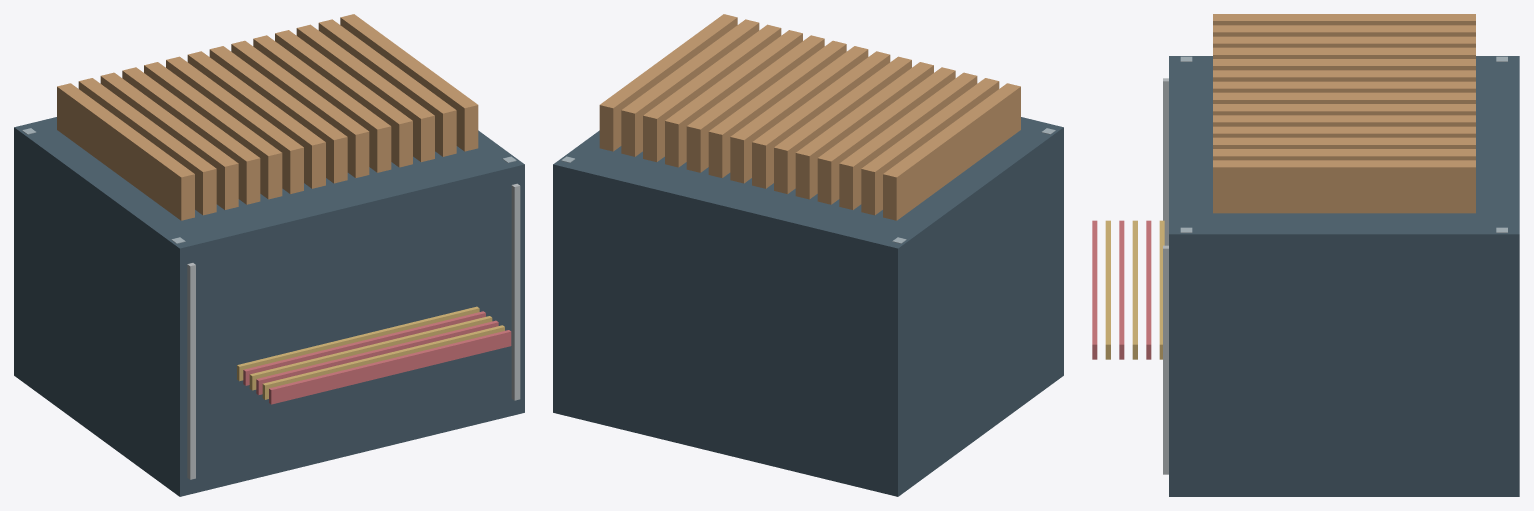
File: 39_L75_ProtectedBeamDumpCollector.glb
The picture shows the model from 3 angles, left to right: view 1: azimuth 30°, elevation 25°; view 2: azimuth 150°, elevation 25°; view 3: azimuth 270°, elevation 25°; orthographic projection. The views are drawn at different scales.
Visible parts, largest first — view 1: ProtectedBeamDumpCollector_Node_0000, ProtectedBeamDumpCollector_Node_0007, ProtectedBeamDumpCollector_Node_0026, ProtectedBeamDumpCollector_Node_0010, ProtectedBeamDumpCollector_Node_0009, ProtectedBeamDumpCollector_Node_0011, ProtectedBeamDumpCollector_Node_0015, ProtectedBeamDumpCollector_Node_0016, ProtectedBeamDumpCollector_Node_0020, ProtectedBeamDumpCollector_Node_0014, ProtectedBeamDumpCollector_Node_0008, ProtectedBeamDumpCollector_Node_0018 (+11 smaller); view 2: ProtectedBeamDumpCollector_Node_0000, ProtectedBeamDumpCollector_Node_0007, ProtectedBeamDumpCollector_Node_0010, ProtectedBeamDumpCollector_Node_0009, ProtectedBeamDumpCollector_Node_0011, ProtectedBeamDumpCollector_Node_0015, ProtectedBeamDumpCollector_Node_0016, ProtectedBeamDumpCollector_Node_0020, ProtectedBeamDumpCollector_Node_0014, ProtectedBeamDumpCollector_Node_0008, ProtectedBeamDumpCollector_Node_0018, ProtectedBeamDumpCollector_Node_0019 (+3 smaller); view 3: ProtectedBeamDumpCollector_Node_0000, ProtectedBeamDumpCollector_Node_0020, ProtectedBeamDumpCollector_Node_0007, ProtectedBeamDumpCollector_Node_0008, ProtectedBeamDumpCollector_Node_0009, ProtectedBeamDumpCollector_Node_0010, ProtectedBeamDumpCollector_Node_0011, ProtectedBeamDumpCollector_Node_0012, ProtectedBeamDumpCollector_Node_0013, ProtectedBeamDumpCollector_Node_0014, ProtectedBeamDumpCollector_Node_0015, ProtectedBeamDumpCollector_Node_0016 (+11 smaller).
Boxes of the visible parts, bbox=[...] form: ProtectedBeamDumpCollector_Node_0000: bbox=[14, 117, 524, 496]; ProtectedBeamDumpCollector_Node_0007: bbox=[57, 83, 194, 220]; ProtectedBeamDumpCollector_Node_0026: bbox=[269, 330, 511, 404]; ProtectedBeamDumpCollector_Node_0010: bbox=[122, 67, 260, 204]; ProtectedBeamDumpCollector_Node_0009: bbox=[100, 72, 238, 209]; ProtectedBeamDumpCollector_Node_0011: bbox=[144, 62, 282, 199]; ProtectedBeamDumpCollector_Node_0015: bbox=[231, 40, 369, 177]; ProtectedBeamDumpCollector_Node_0016: bbox=[253, 35, 391, 172]; ProtectedBeamDumpCollector_Node_0020: bbox=[340, 14, 478, 151]; ProtectedBeamDumpCollector_Node_0014: bbox=[209, 46, 347, 183]; ProtectedBeamDumpCollector_Node_0008: bbox=[78, 78, 216, 215]; ProtectedBeamDumpCollector_Node_0018: bbox=[296, 24, 434, 162]; ProtectedBeamDumpCollector_Node_0000: bbox=[553, 117, 1063, 496]; ProtectedBeamDumpCollector_Node_0007: bbox=[883, 83, 1020, 220]; ProtectedBeamDumpCollector_Node_0010: bbox=[817, 67, 955, 204]; ProtectedBeamDumpCollector_Node_0009: bbox=[839, 72, 977, 209]; ProtectedBeamDumpCollector_Node_0011: bbox=[795, 62, 933, 199]; ProtectedBeamDumpCollector_Node_0015: bbox=[708, 40, 846, 177]; ProtectedBeamDumpCollector_Node_0016: bbox=[686, 35, 824, 172]; ProtectedBeamDumpCollector_Node_0020: bbox=[599, 14, 737, 151]; ProtectedBeamDumpCollector_Node_0014: bbox=[730, 46, 868, 183]; ProtectedBeamDumpCollector_Node_0008: bbox=[861, 78, 999, 215]; ProtectedBeamDumpCollector_Node_0018: bbox=[643, 24, 781, 162]; ProtectedBeamDumpCollector_Node_0019: bbox=[621, 19, 759, 156]; ProtectedBeamDumpCollector_Node_0000: bbox=[1169, 56, 1519, 496]; ProtectedBeamDumpCollector_Node_0020: bbox=[1213, 160, 1475, 213]; ProtectedBeamDumpCollector_Node_0007: bbox=[1213, 14, 1475, 25]; ProtectedBeamDumpCollector_Node_0008: bbox=[1213, 25, 1475, 36]; ProtectedBeamDumpCollector_Node_0009: bbox=[1213, 36, 1475, 47]; ProtectedBeamDumpCollector_Node_0010: bbox=[1213, 47, 1475, 58]; ProtectedBeamDumpCollector_Node_0011: bbox=[1213, 59, 1475, 70]; ProtectedBeamDumpCollector_Node_0012: bbox=[1213, 70, 1475, 81]; ProtectedBeamDumpCollector_Node_0013: bbox=[1213, 81, 1475, 92]; ProtectedBeamDumpCollector_Node_0014: bbox=[1213, 92, 1475, 103]; ProtectedBeamDumpCollector_Node_0015: bbox=[1213, 104, 1475, 115]; ProtectedBeamDumpCollector_Node_0016: bbox=[1213, 115, 1475, 126].
Size of the model in its own units: 1.25 by 1.04 by 1.27.
